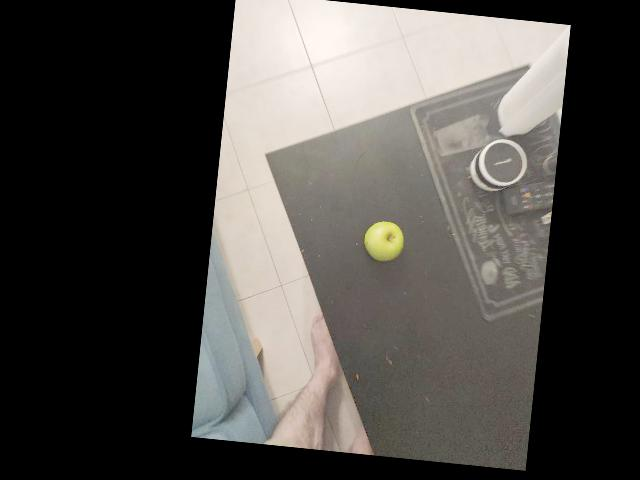apple: (298, 145, 348, 195)
